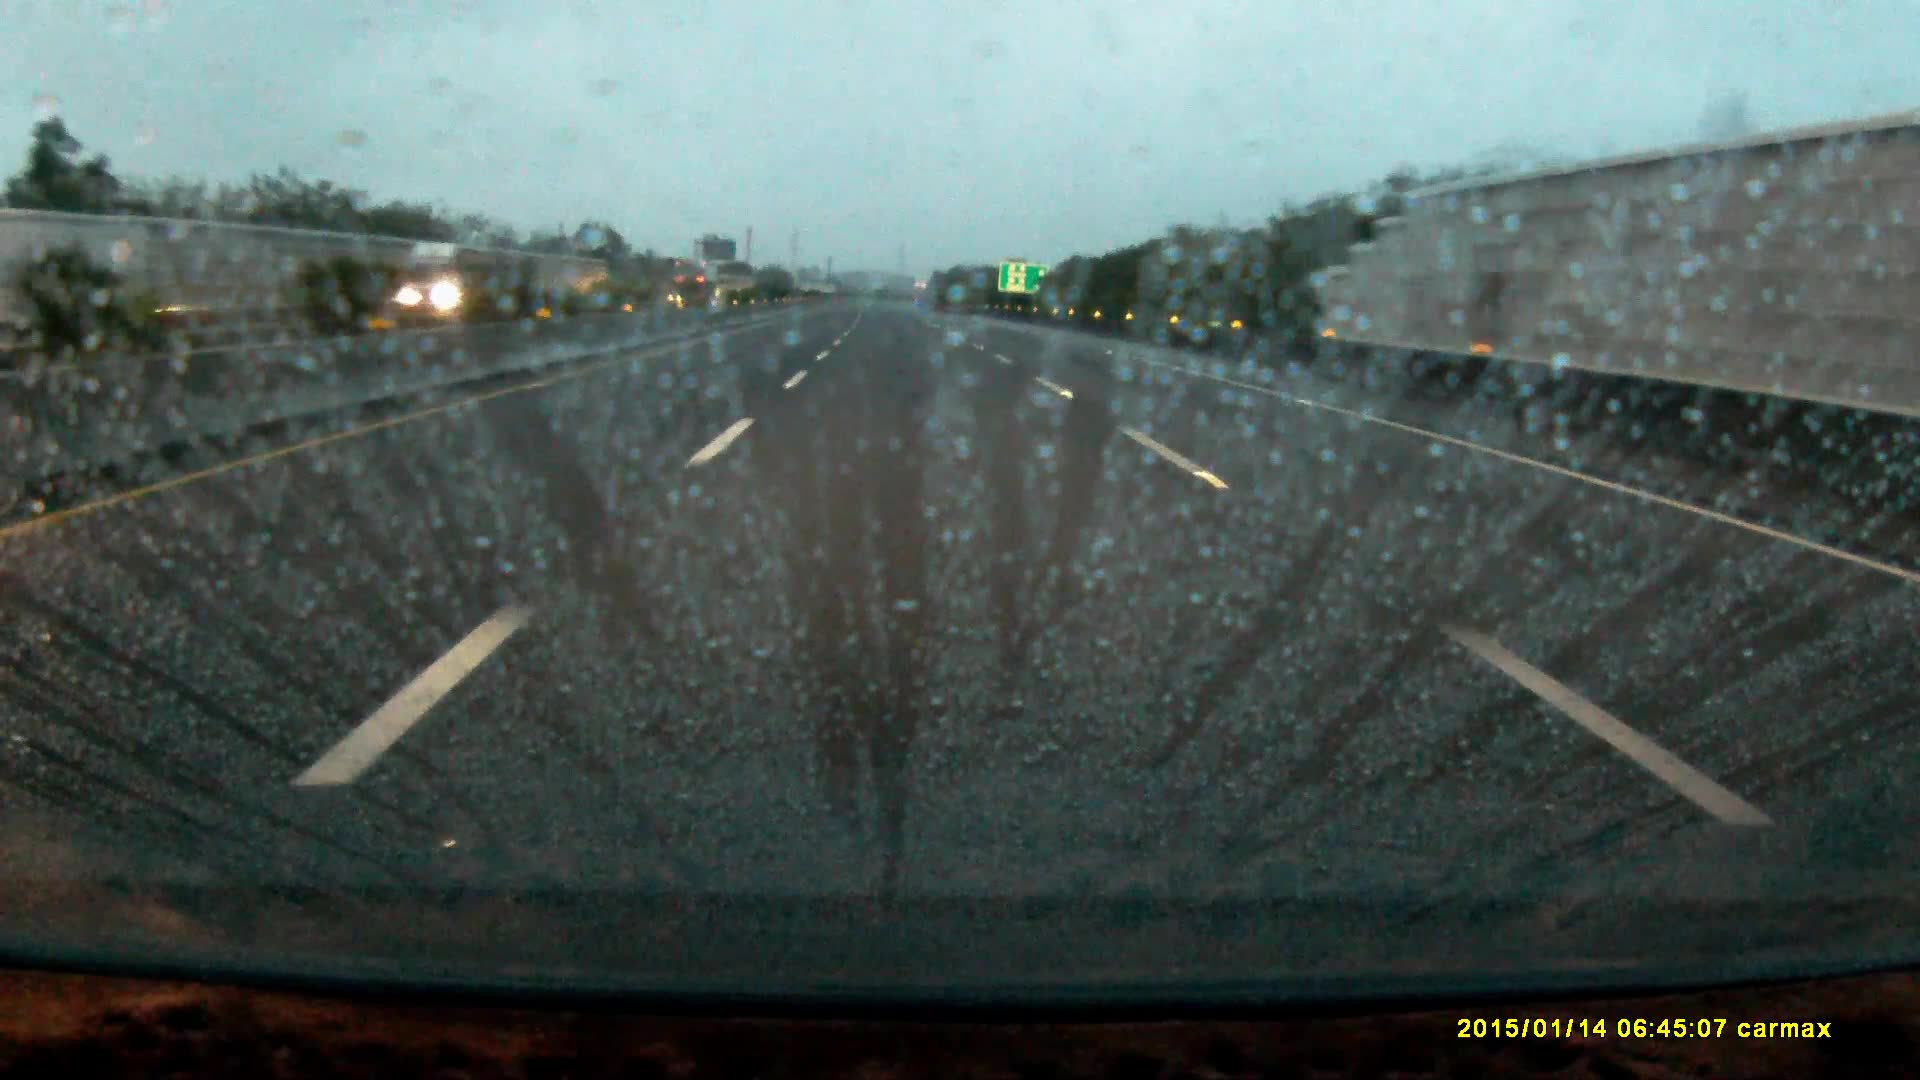vehicle: (398, 243, 506, 334), (673, 270, 723, 313)
